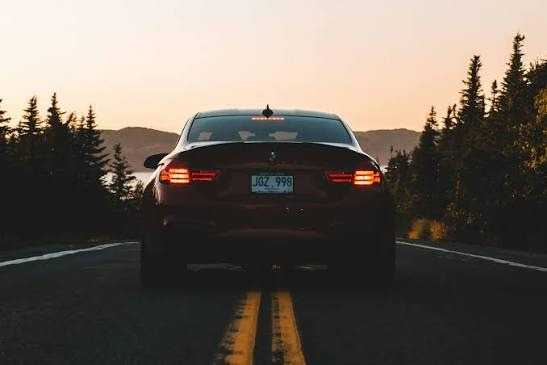car: (137, 108, 393, 300)
